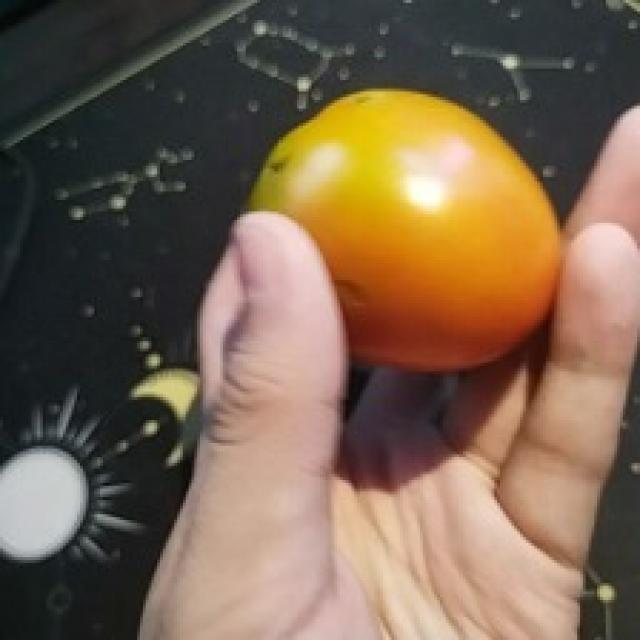Rotten Tomato: (224, 75, 572, 404)
